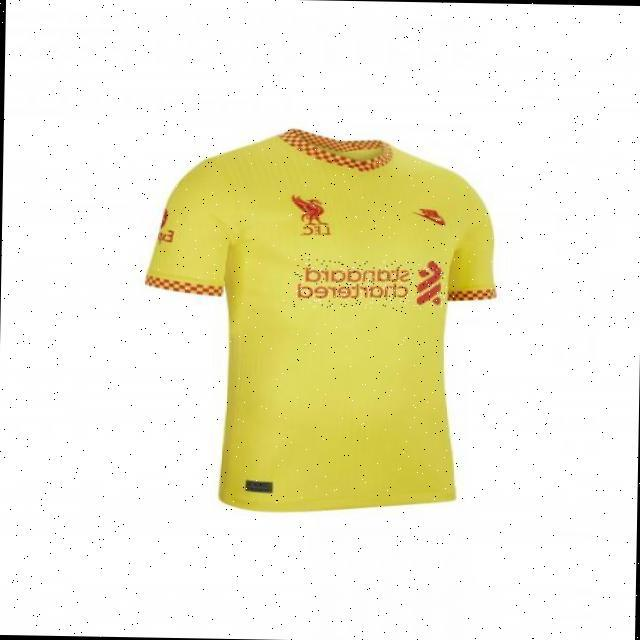Standard Chartered: (293, 259, 446, 309)
